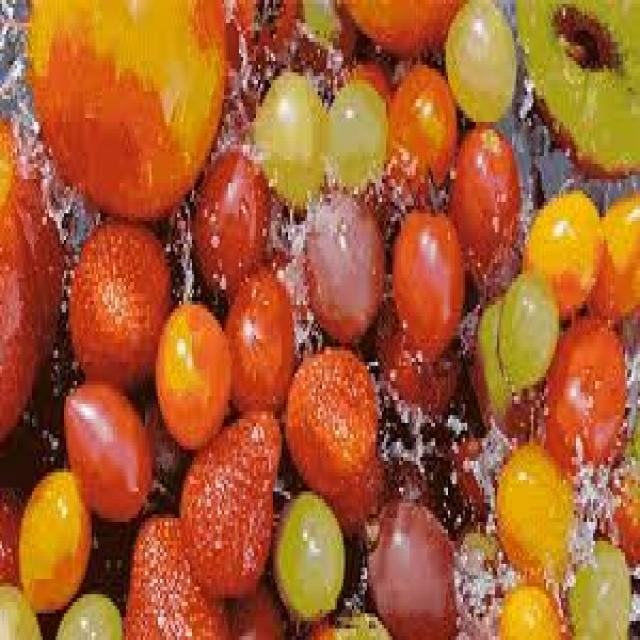organic waste: (27, 0, 230, 213), (516, 0, 637, 171), (516, 0, 638, 168), (175, 404, 279, 598), (66, 214, 171, 392), (0, 114, 55, 441), (282, 343, 379, 518), (544, 309, 623, 476), (361, 495, 452, 636), (122, 514, 226, 636), (301, 187, 384, 339), (448, 118, 518, 297), (62, 388, 153, 522), (192, 152, 269, 308), (390, 202, 465, 362), (518, 187, 602, 320), (152, 297, 228, 442), (15, 465, 87, 617), (493, 442, 567, 587), (371, 297, 459, 412), (256, 65, 322, 213), (271, 488, 343, 617), (442, 0, 514, 126), (388, 57, 450, 187), (322, 76, 386, 194), (591, 422, 638, 568), (497, 267, 557, 381), (589, 187, 638, 320), (566, 534, 628, 636), (442, 423, 501, 522), (0, 388, 51, 484), (452, 518, 502, 594), (497, 583, 563, 636), (218, 583, 284, 636), (56, 587, 120, 636), (222, 0, 258, 76), (310, 606, 390, 636), (0, 579, 41, 636), (0, 484, 21, 579)
